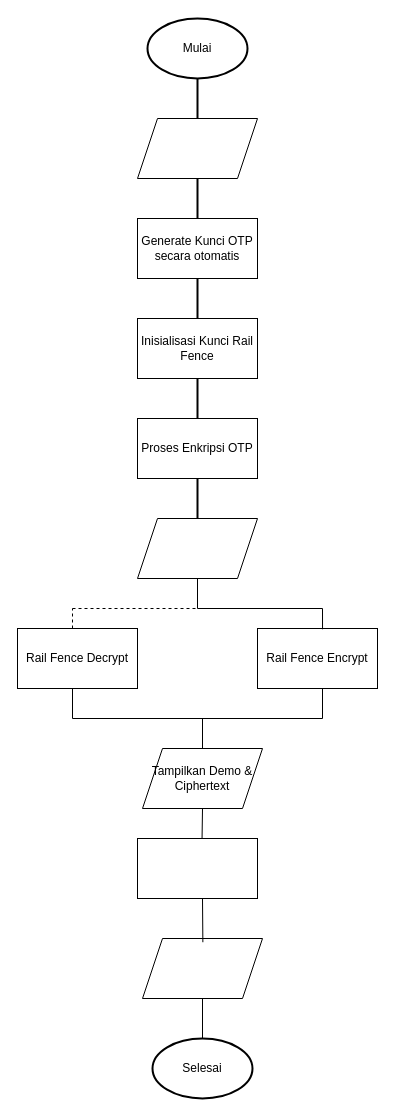
This 395x1116 diagram has some shape labels left out. The centre of each missing label's shape, as x and y in pixels:
Deskripsi total: point 197,868
Input Plaintext (P): point 197,148
Tampilkan Hasil OTP: point 197,548
Tampilkan Plaintext: point 202,968
